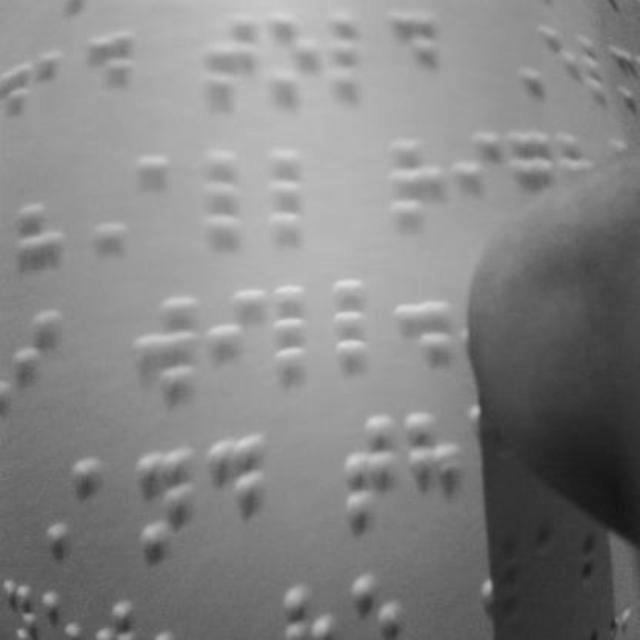braiile: (404, 406, 472, 532), (136, 436, 198, 564), (336, 414, 399, 538), (208, 432, 268, 552), (136, 298, 200, 410), (207, 285, 270, 397), (13, 310, 71, 426), (272, 284, 332, 388), (334, 276, 394, 380), (392, 138, 450, 245), (72, 448, 126, 556), (272, 150, 332, 246), (88, 27, 144, 128), (204, 152, 260, 250), (208, 18, 262, 118), (270, 12, 324, 110), (132, 150, 186, 246), (37, 42, 89, 138), (328, 12, 380, 106), (392, 10, 440, 104)
